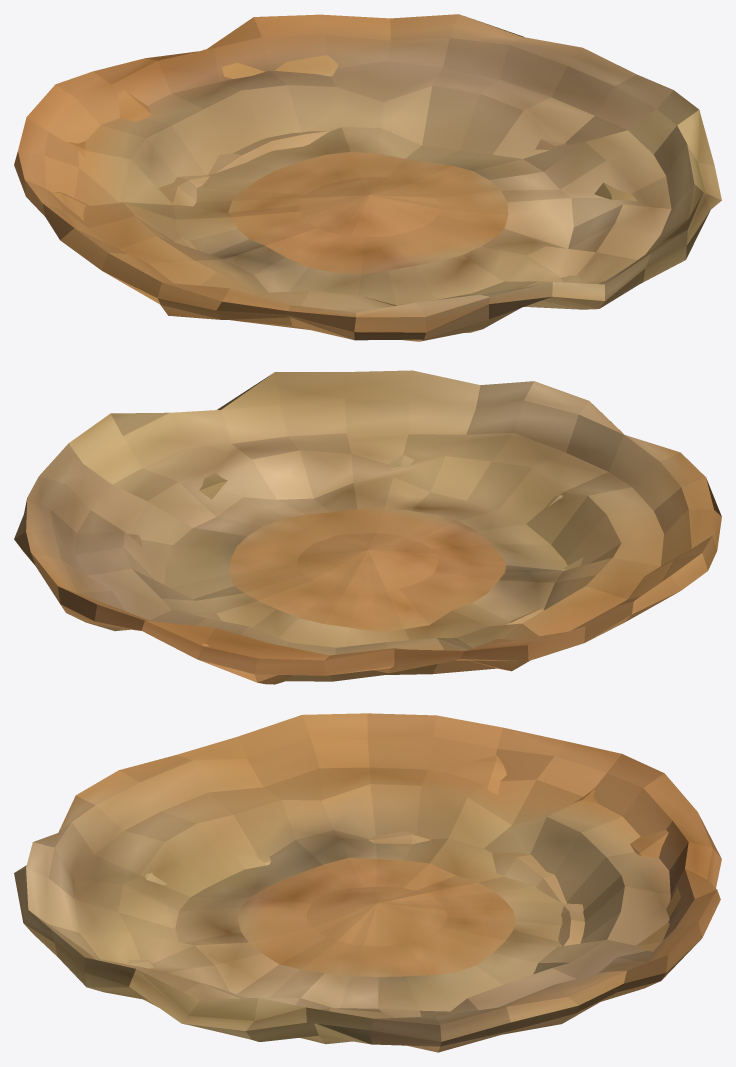
The model's file is keraktelor.fbx.
The picture shows the model from 3 angles, top to bottom: view 1: azimuth 30°, elevation 25°; view 2: azimuth 150°, elevation 25°; view 3: azimuth 270°, elevation 25°; orthographic projection.
Visible parts, largest first — view 1: keraktelor; view 2: keraktelor; view 3: keraktelor.
Boxes of the visible parts, box(x1,y1,x2,y2) form: keraktelor: box(14, 14, 721, 341); keraktelor: box(14, 370, 721, 684); keraktelor: box(14, 713, 721, 1052).
Size of the model in its own units: 73.35 by 11.7 by 73.09.
